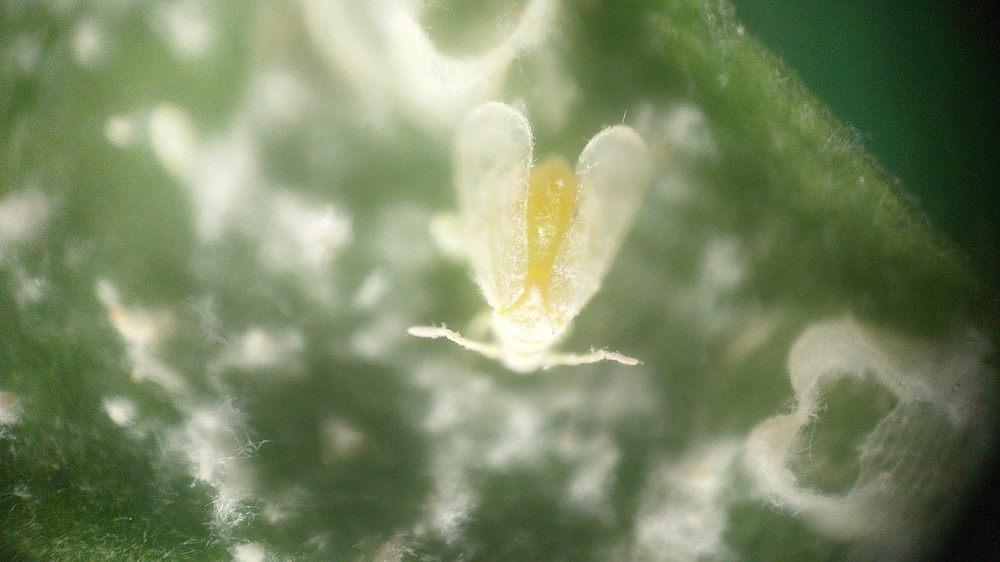Mosca Blanca: (405, 99, 654, 392)
